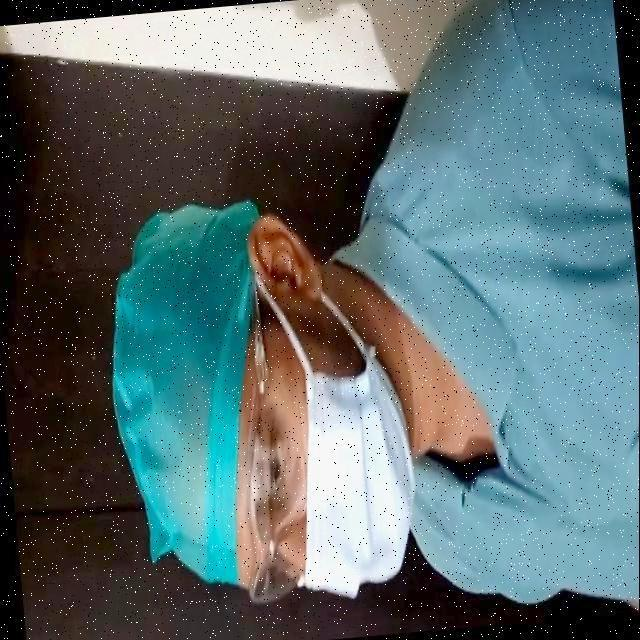gloves: (100, 210, 267, 612)
mask: (299, 378, 422, 590)
